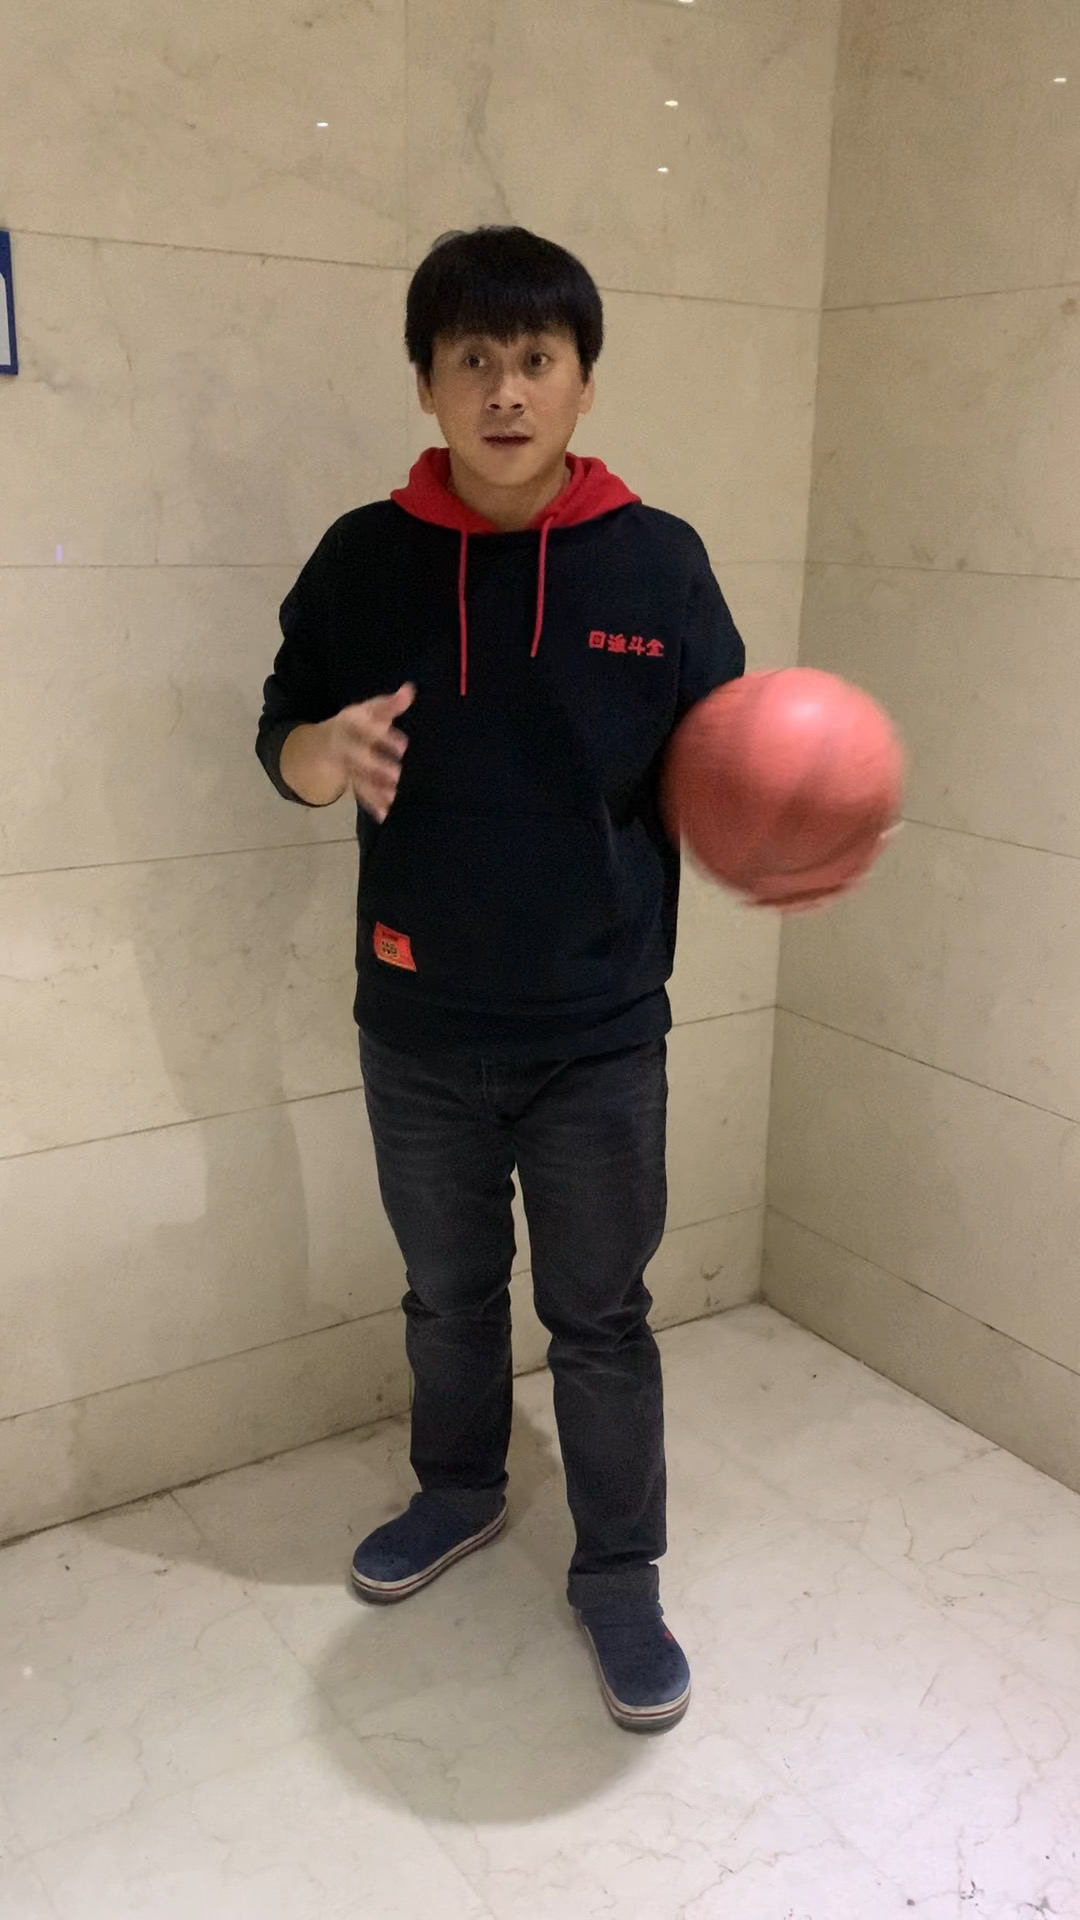ball: (669, 669, 905, 899)
